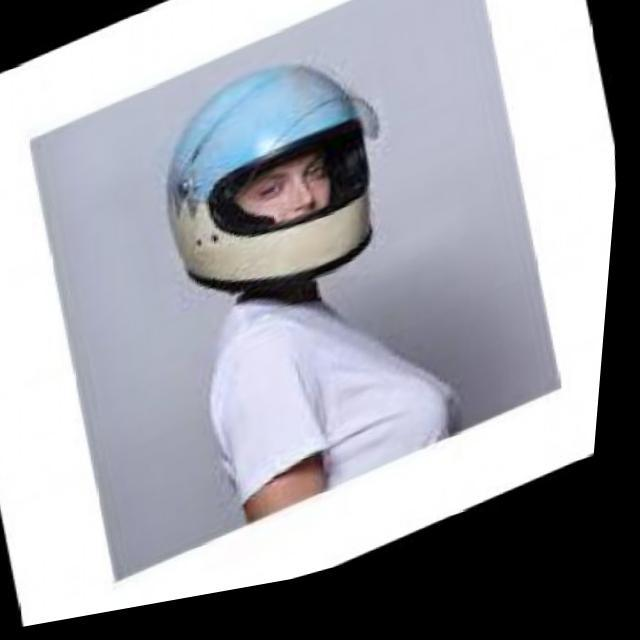Helmet: (163, 56, 388, 299)
